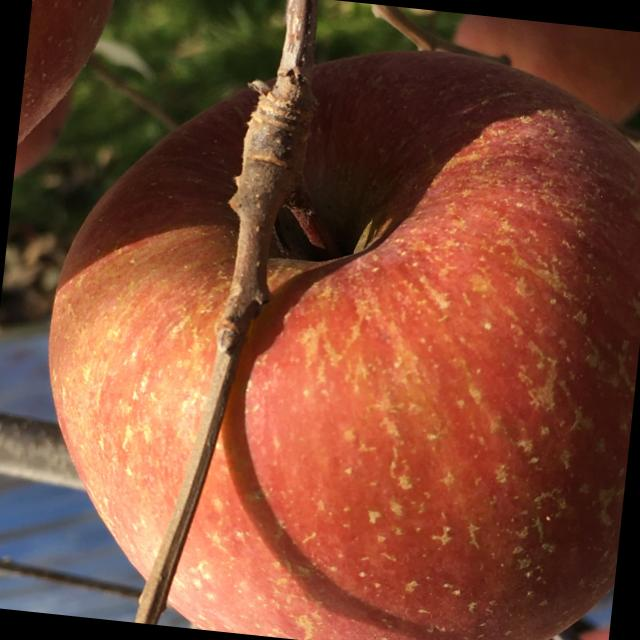fresh: (14, 4, 640, 640)
